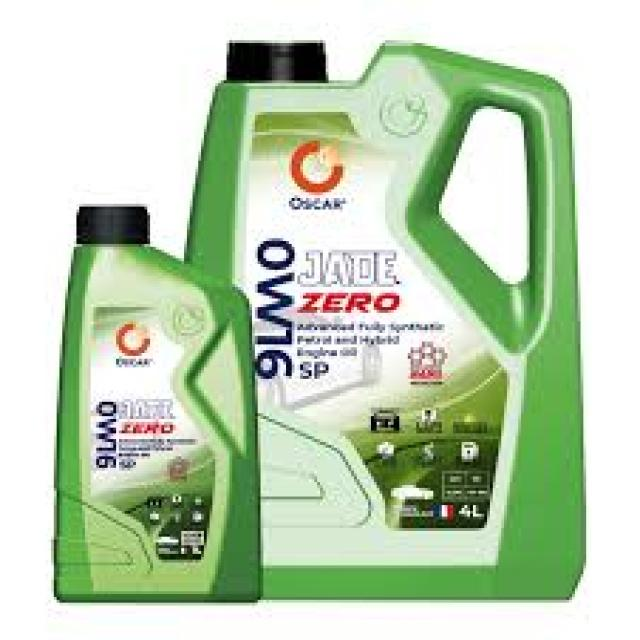motor_oil: (210, 38, 592, 610), (63, 202, 260, 610)
